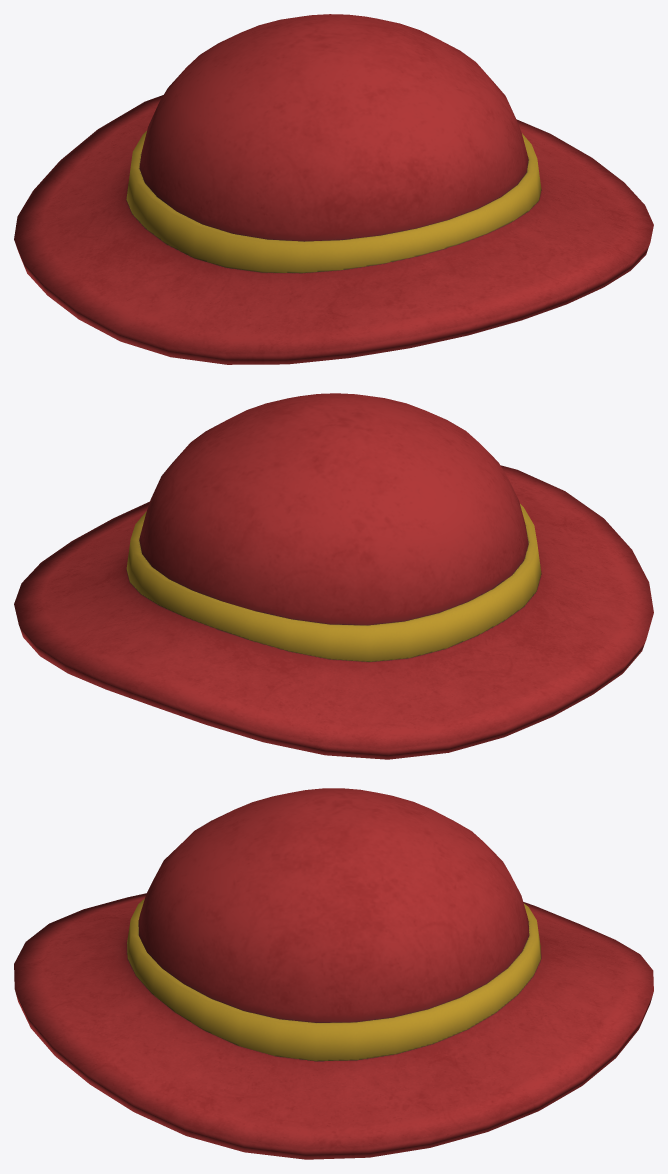
File: Hat.fbx
The picture shows the model from 3 angles, top to bottom: view 1: azimuth 30°, elevation 25°; view 2: azimuth 150°, elevation 25°; view 3: azimuth 270°, elevation 25°; orthographic projection.
Visible parts, largest first — view 1: HatLoop; view 2: HatLoop; view 3: HatLoop.
Part boxes in pixels (x1,y1,x2,y2): HatLoop: [14, 14, 653, 364]; HatLoop: [14, 393, 653, 759]; HatLoop: [14, 788, 653, 1159].
Bounding box in the file's own units: 1.59 × 0.5932 × 1.59.
